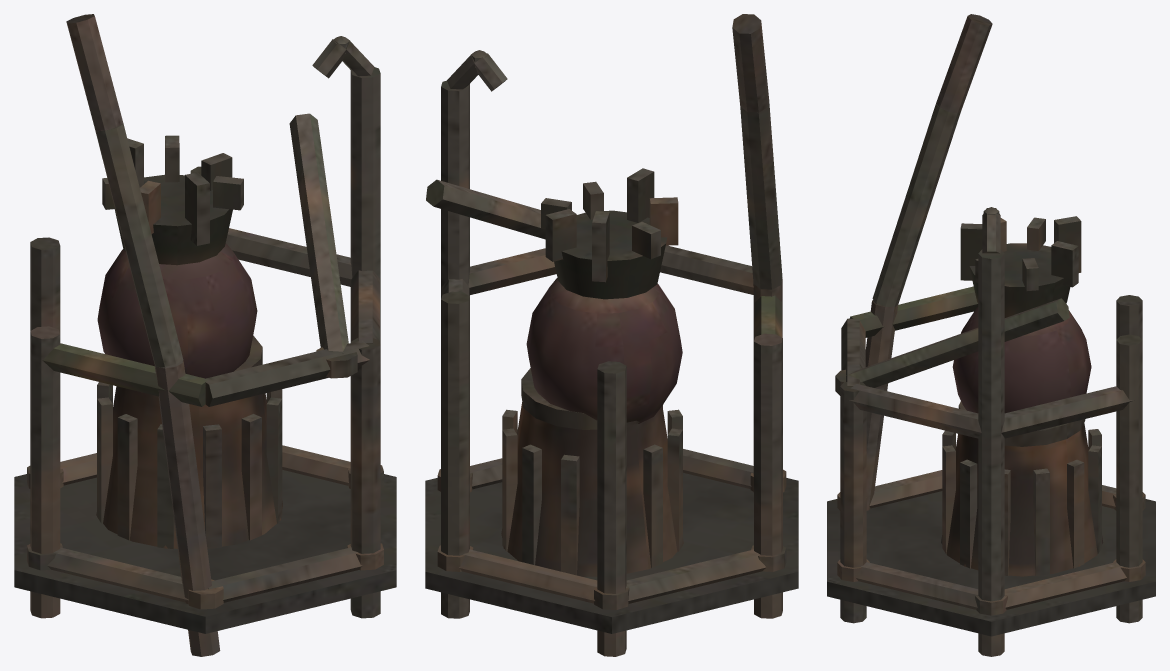
Rendered from fulgora-sunk-ruin-medium-tall.glb.
3 views of the same model, side by side, from view 1: azimuth 30°, elevation 25°; view 2: azimuth 150°, elevation 25°; view 3: azimuth 270°, elevation 25° (orthographic). The views are drawn at different scales.
Parts seen in each view (by area): view 1: body; view 2: body; view 3: body.
Boxes of the visible parts, bbox=[...] form: body: bbox=[14, 14, 396, 656]; body: bbox=[425, 14, 798, 656]; body: bbox=[827, 14, 1155, 656].
Bounding box in the file's own units: 1.86 × 2.78 × 1.61.
1 material, 1 textured.
